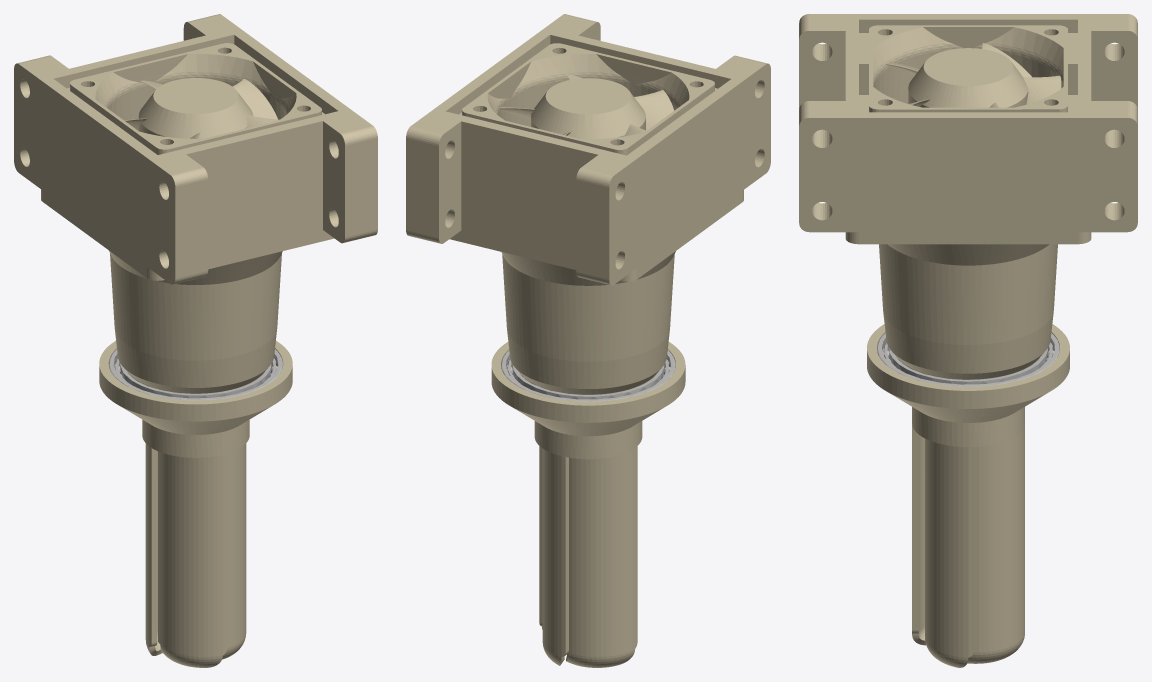
File: boquilla.glb
3 views of the same model, side by side, from view 1: azimuth 30°, elevation 25°; view 2: azimuth 150°, elevation 25°; view 3: azimuth 270°, elevation 25° (orthographic). The views are drawn at different scales.
Parts seen in each view (by area): view 1: 02_sujetador_de_fan_der, 07_boquilladegiro, 00_Borde_de_resistencia, 01_sujetador_de_fan_izq, 05_638-F2-1, 06_ROTOR, 08_AST_Bearings_6709; view 2: 02_sujetador_de_fan_der, 07_boquilladegiro, 00_Borde_de_resistencia, 01_sujetador_de_fan_izq, 05_638-F2-1, 06_ROTOR, 08_AST_Bearings_6709; view 3: 01_sujetador_de_fan_izq, 07_boquilladegiro, 00_Borde_de_resistencia, 02_sujetador_de_fan_der, 05_638-F2-1, 06_ROTOR, 08_AST_Bearings_6709.
Boxes of the visible parts, x1,y1,x2,y2 form: 02_sujetador_de_fan_der: [14, 52, 254, 284]; 07_boquilladegiro: [99, 341, 292, 667]; 00_Borde_de_resistencia: [41, 189, 334, 393]; 01_sujetador_de_fan_izq: [138, 14, 377, 246]; 05_638-F2-1: [70, 43, 321, 154]; 06_ROTOR: [124, 78, 279, 138]; 08_AST_Bearings_6709: [109, 349, 282, 400]; 02_sujetador_de_fan_der: [530, 52, 770, 285]; 07_boquilladegiro: [491, 342, 685, 667]; 00_Borde_de_resistencia: [449, 190, 743, 394]; 01_sujetador_de_fan_izq: [406, 14, 646, 247]; 05_638-F2-1: [462, 43, 714, 155]; 06_ROTOR: [500, 74, 673, 139]; 08_AST_Bearings_6709: [501, 350, 675, 401]; 01_sujetador_de_fan_izq: [799, 66, 1137, 232]; 07_boquilladegiro: [867, 324, 1069, 667]; 00_Borde_de_resistencia: [845, 232, 1091, 379]; 02_sujetador_de_fan_der: [799, 14, 1137, 131]; 05_638-F2-1: [869, 25, 1067, 112]; 06_ROTOR: [886, 43, 1061, 107]; 08_AST_Bearings_6709: [877, 333, 1059, 386].
Bounding box in the file's own units: 74 × 195 × 102.
